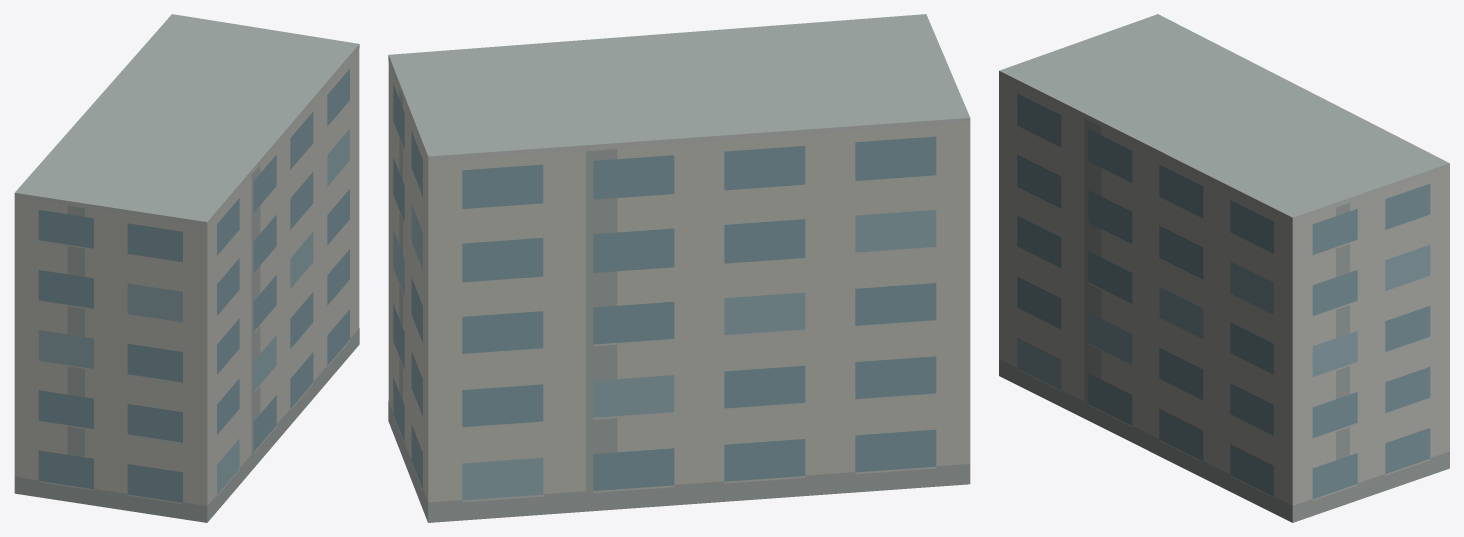
The model's file is survey-upis-32501347.glb.
3 renders of one model, left to right at view 1: azimuth 30°, elevation 25°; view 2: azimuth 150°, elevation 25°; view 3: azimuth 270°, elevation 25°, orthographic. The views are drawn at different scales.
Parts seen in each view (by area): view 1: survey-upis-32501347.tmp; view 2: survey-upis-32501347.tmp; view 3: survey-upis-32501347.tmp.
Part boxes in pixels (x1=…): survey-upis-32501347.tmp: x1=14, y1=14, x2=359, y2=522; survey-upis-32501347.tmp: x1=388, y1=14, x2=970, y2=522; survey-upis-32501347.tmp: x1=999, y1=14, x2=1449, y2=522.
Bounding box in the file's own units: 21.83 × 15.25 × 20.42.
